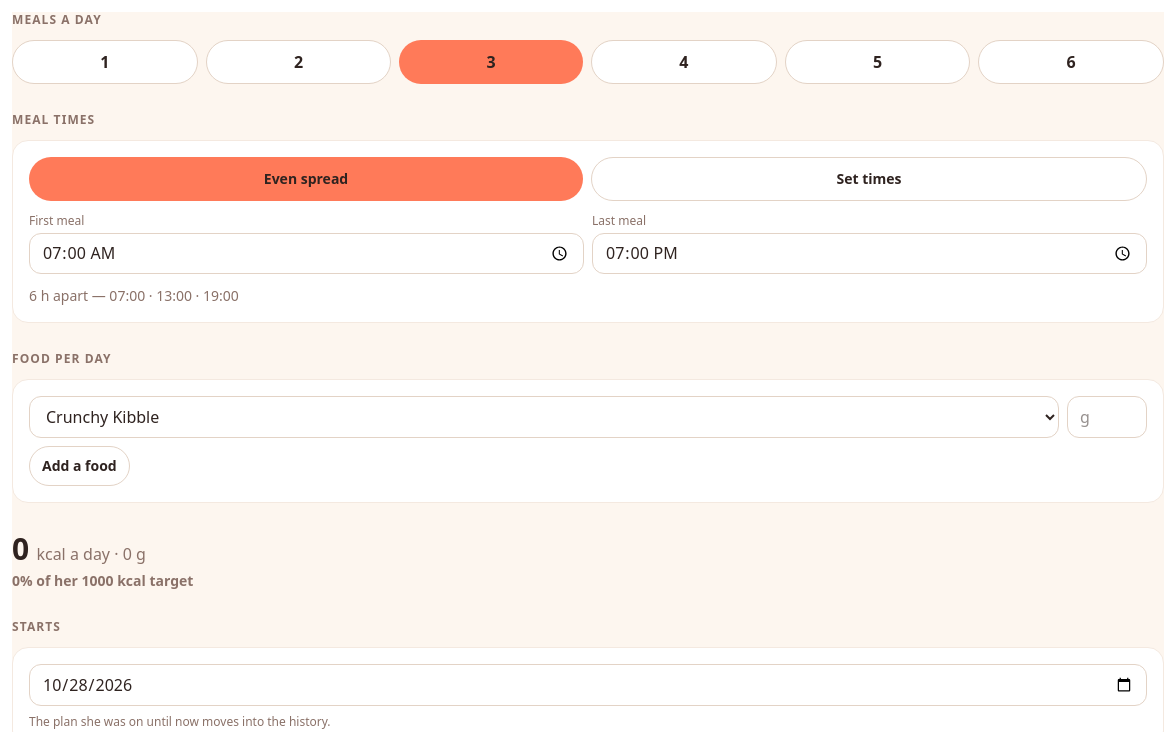
Test: PlanForm › derives the meal times from the count and the window
The width and height of the screenshot is (1176, 732).
Check: the text with test id "plan-times" reads "6 h apart — 07:00 · 13:00 · 19:00", box left=29, top=286, right=239, bottom=305
Click the button with test id "plan-meals-4" at {"x": 684, "y": 62}, box left=591, top=40, right=777, bottom=84
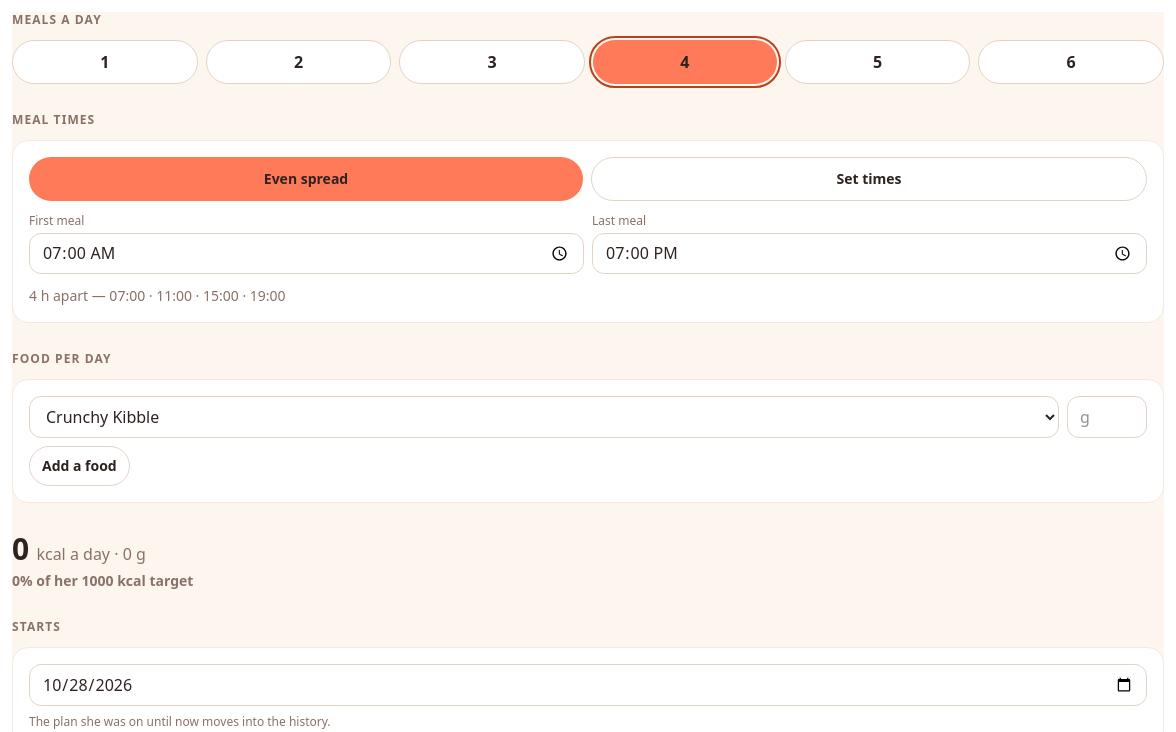
Check: the text with test id "plan-times" reads "4 h apart — 07:00 · 11:00 · 15:00 · 19:00", box left=29, top=286, right=286, bottom=305
Replace the text in the time field with test id "plan-last-time" with "21:00" at {"x": 870, "y": 253}, box left=592, top=233, right=1147, bottom=274
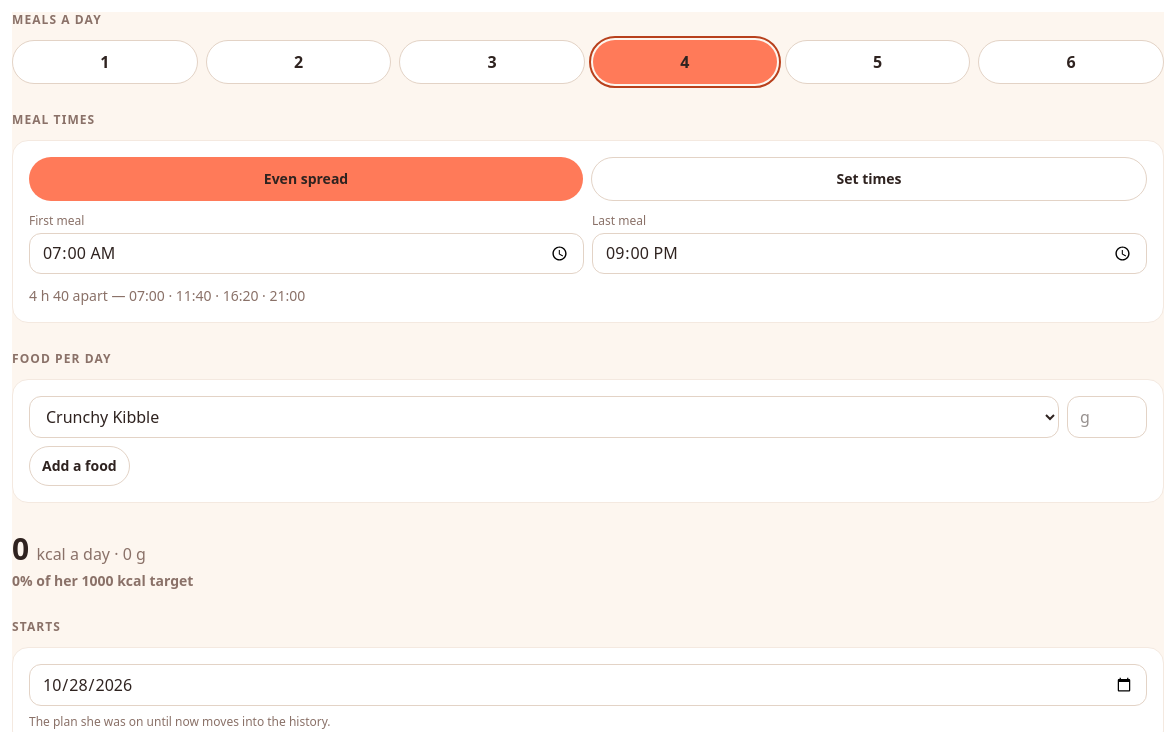
Check: the text with test id "plan-times" reads "4 h 40 apart — 07:00 · 11:40 · 16:20 · 21:00", box left=29, top=286, right=305, bottom=305
